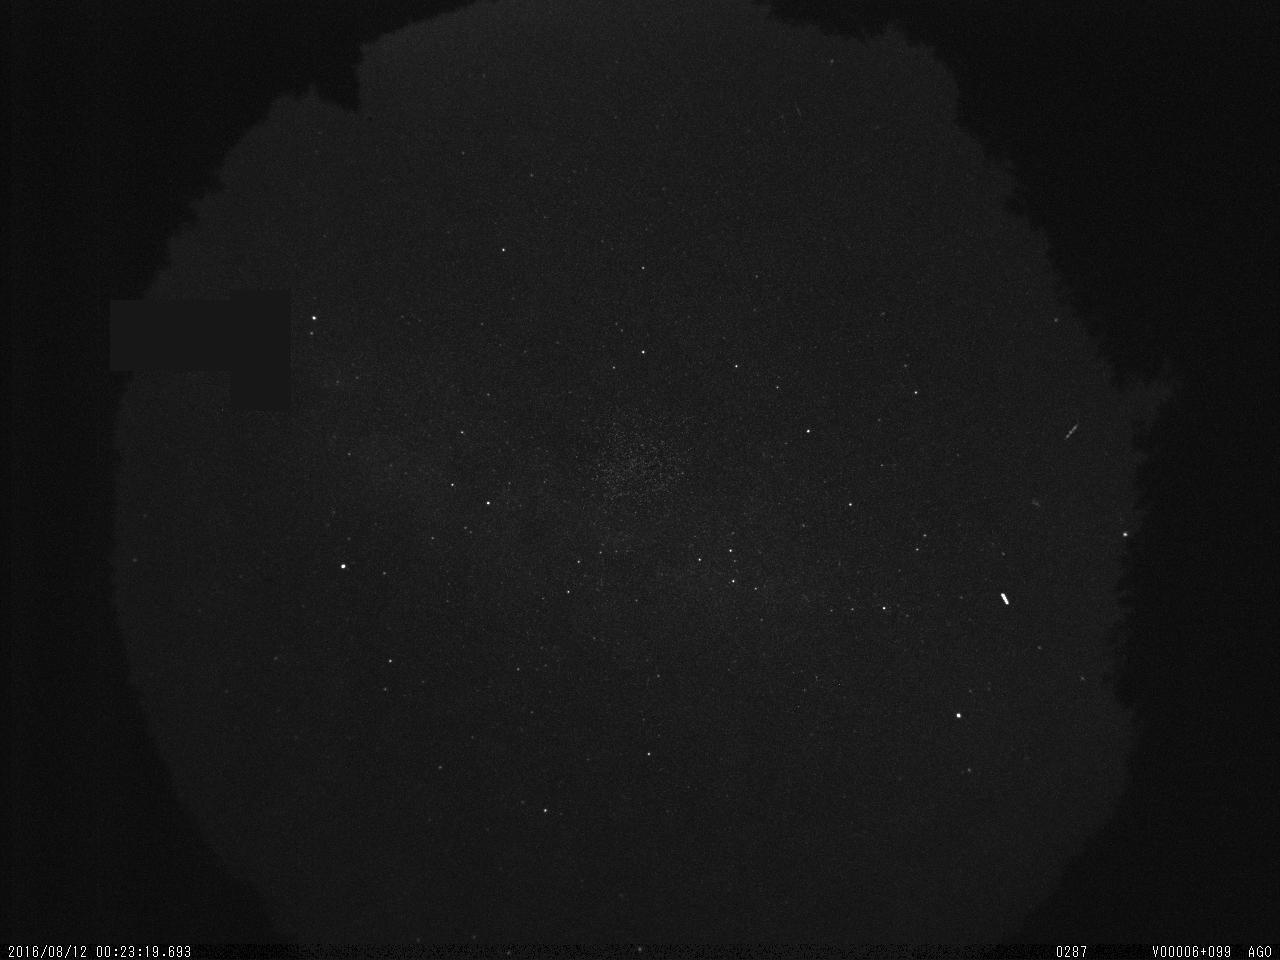meteor: (993, 585, 1021, 614)
